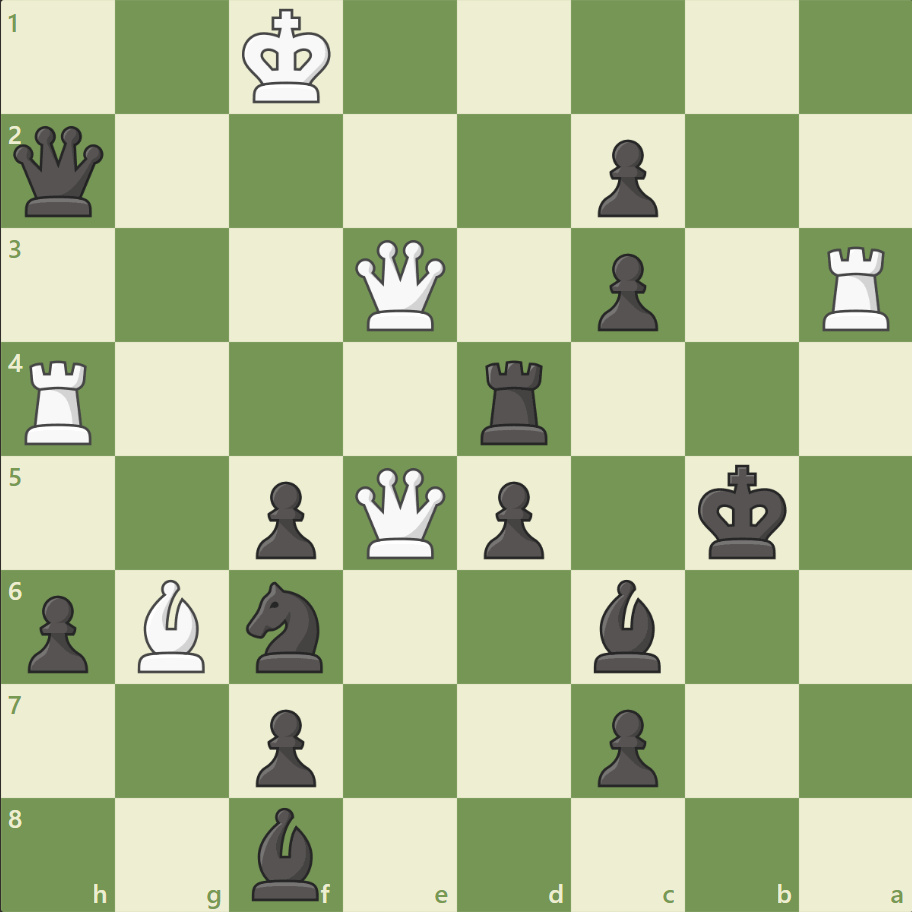B: (131, 574, 215, 676)
K: (238, 4, 338, 112)
Q: (351, 463, 450, 562), (351, 236, 450, 335)
R: (19, 352, 102, 449), (814, 239, 897, 336)
b: (244, 801, 328, 904), (585, 574, 669, 676)
k: (692, 458, 792, 566)
n: (238, 575, 335, 677)
p: (247, 700, 322, 791), (20, 586, 95, 677), (474, 473, 549, 564), (247, 473, 322, 564), (588, 700, 662, 791), (588, 246, 662, 337), (588, 132, 662, 223)
q: (10, 122, 109, 222)
r: (473, 352, 556, 449)
